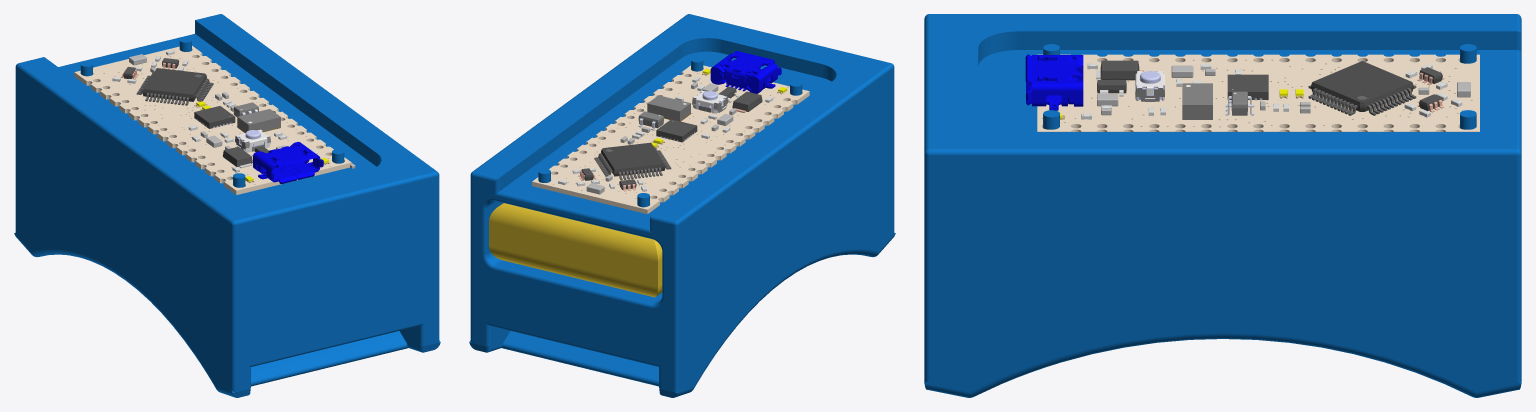
File: VR-controller-integration.glb
3 renders of one model, left to right at view 1: azimuth 30°, elevation 25°; view 2: azimuth 150°, elevation 25°; view 3: azimuth 270°, elevation 25°, orthographic. The views are drawn at different scales.
Parts seen in each view (by area): view 1: arm strap module, Board.001, Body3.001, Body1.001, Body2.001, Body2.003, Body2, Body1.004; view 2: arm strap module, Board.001, Batterie.001, Body1.001, Body3.001, Body2.001, Body2.003, Body2, Body1.004; view 3: arm strap module, Board.001, Body3.001, Body1.001, Body2.001, Body2.003, Body2, Body1.004.
Boxes of the visible parts, x1=… form: arm strap module: x1=14, y1=14, x2=440, y2=397; Board.001: x1=74, y1=46, x2=351, y2=194; Body3.001: x1=136, y1=68, x2=213, y2=105; Body1.001: x1=253, y1=142, x2=323, y2=183; Body2.001: x1=237, y1=109, x2=280, y2=132; Body2.003: x1=194, y1=106, x2=235, y2=128; Body2: x1=235, y1=129, x2=270, y2=152; Body1.004: x1=223, y1=146, x2=252, y2=166; arm strap module: x1=469, y1=14, x2=895, y2=397; Board.001: x1=532, y1=65, x2=809, y2=214; Batterie.001: x1=489, y1=203, x2=662, y2=297; Body1.001: x1=710, y1=51, x2=781, y2=93; Body3.001: x1=594, y1=142, x2=671, y2=180; Body2.001: x1=647, y1=95, x2=690, y2=121; Body2.003: x1=656, y1=119, x2=697, y2=142; Body2: x1=692, y1=90, x2=728, y2=113; Body1.004: x1=732, y1=91, x2=762, y2=111; arm strap module: x1=924, y1=14, x2=1521, y2=397; Board.001: x1=1037, y1=54, x2=1479, y2=131; Body3.001: x1=1308, y1=61, x2=1416, y2=115; Body1.001: x1=1025, y1=54, x2=1083, y2=110; Body2.001: x1=1182, y1=83, x2=1212, y2=119; Body2.003: x1=1227, y1=74, x2=1268, y2=100; Body2: x1=1135, y1=71, x2=1164, y2=101; Body1.004: x1=1100, y1=60, x2=1139, y2=79.
Size of the model in its own units: 0.032 by 0.0284 by 0.0582.
